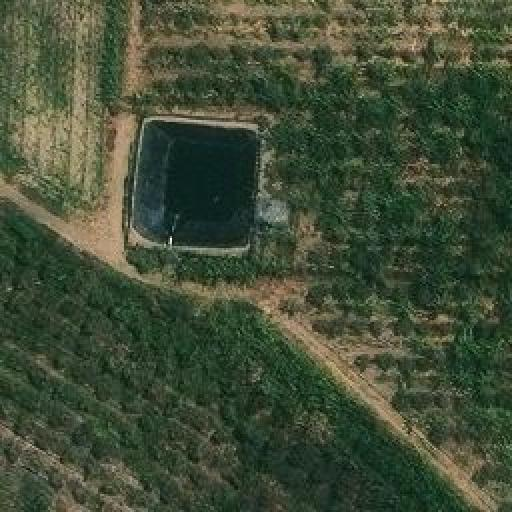manzanas: (124, 112, 268, 261)
